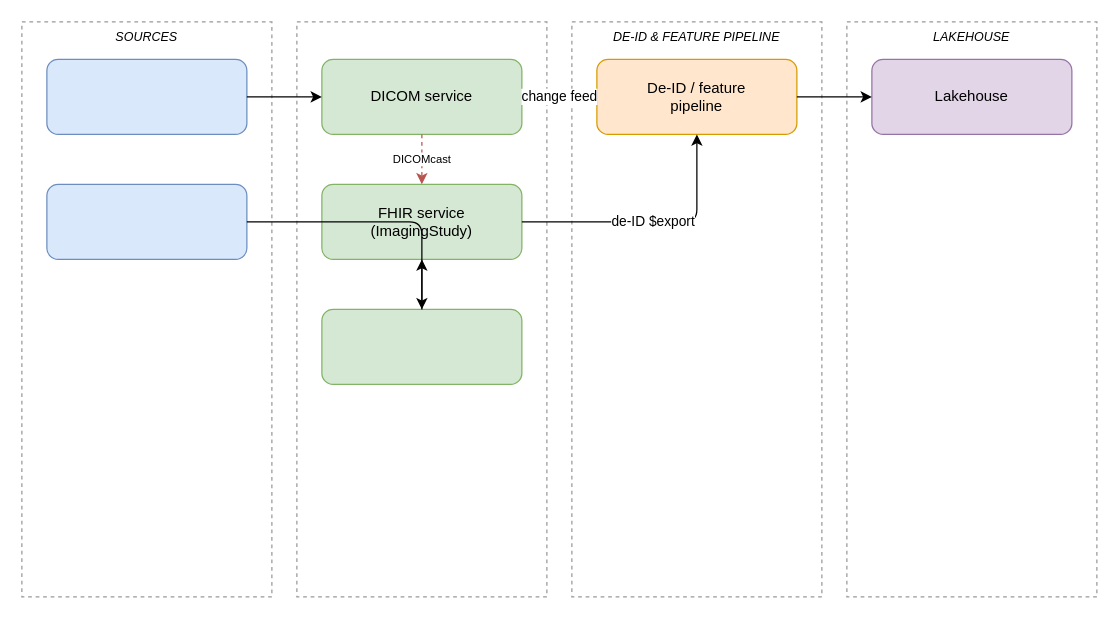
The diagram is 1119 pixels wide and 619 high, and some of its shapes have lost their labels. The box of each missing label's shape, as (x1, y1, x2, y2) in pixels:
$convert-data: (321, 308, 522, 384)
AZURE HEALTH DATA SERVICES: (296, 21, 547, 597)
EHR / HL7v2: (46, 183, 247, 259)
Modalities: (46, 58, 247, 134)
